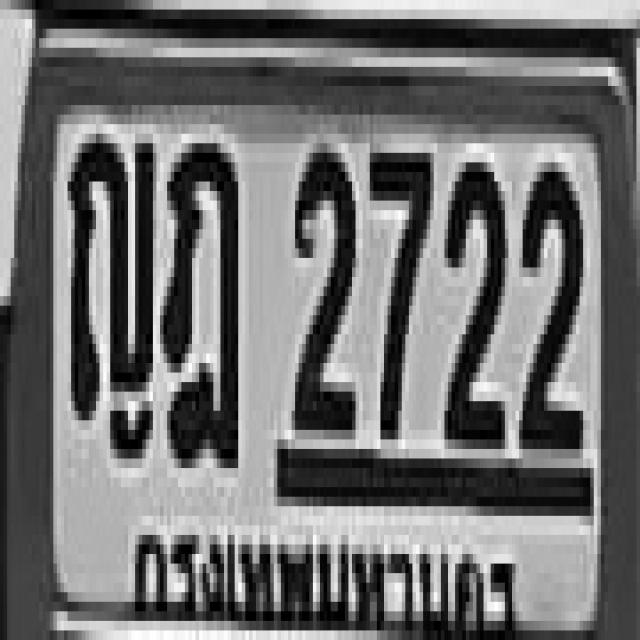2: (284, 139, 352, 425), (516, 153, 580, 449), (441, 148, 501, 435)
22YorYing: (66, 120, 151, 416)
23DorChaDa: (160, 134, 235, 458)
7: (366, 143, 430, 430)
Bangkok: (126, 524, 523, 640)
